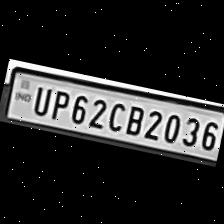0: (158, 108, 182, 142)
2: (84, 92, 108, 128), (141, 104, 165, 139)
3: (178, 112, 200, 148)
6: (66, 89, 91, 125), (196, 114, 220, 150)
B: (122, 100, 146, 136)
C: (104, 96, 128, 132)
P: (46, 84, 71, 120)
U: (28, 80, 53, 116)
